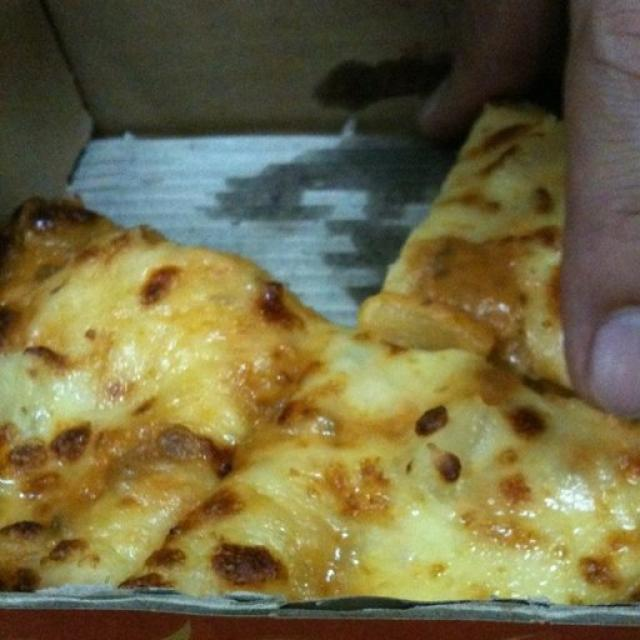Pizza: (0, 104, 640, 609)
